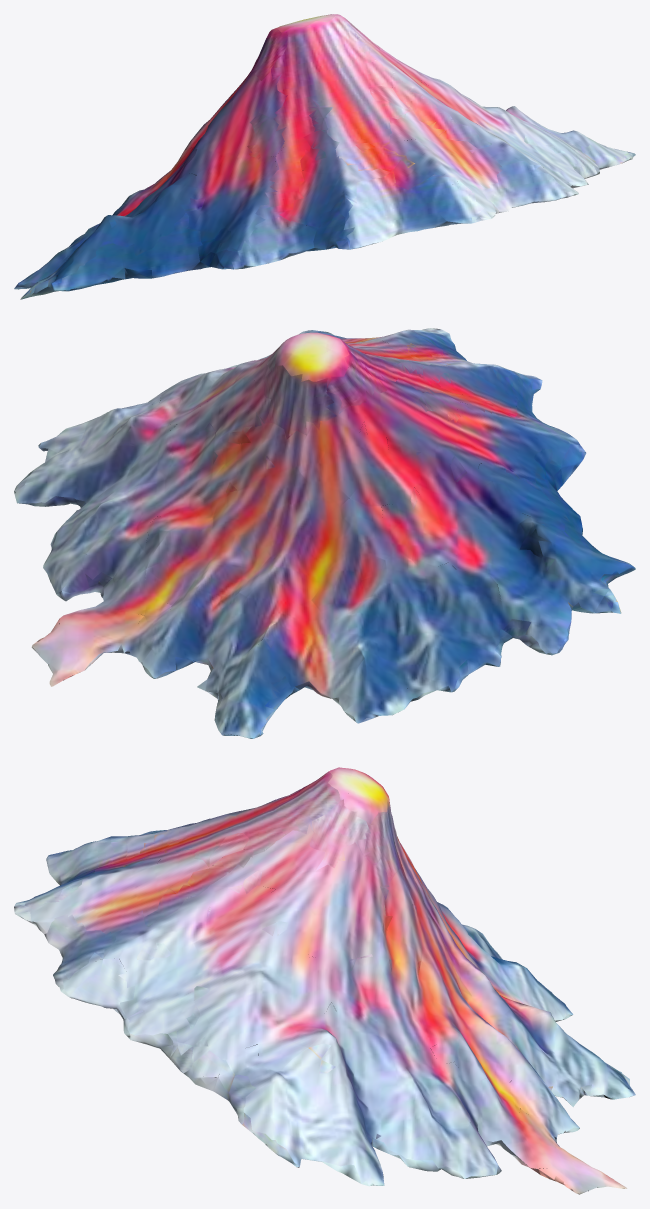
The model's file is volcano.glb.
3 views of the same model, one above another, from view 1: azimuth 30°, elevation 25°; view 2: azimuth 150°, elevation 25°; view 3: azimuth 270°, elevation 25° (orthographic). The views are drawn at different scales.
Parts seen in each view (by area): view 1: world; view 2: world; view 3: world.
Boxes of the visible parts, x1=… form: world: x1=14, y1=14, x2=635, y2=299; world: x1=14, y1=328, x2=635, y2=738; world: x1=14, y1=767, x2=635, y2=1194.
Bounding box in the file's own units: 1.04 × 0.4921 × 0.8249.
Materials: 1 (1 with a texture image).
